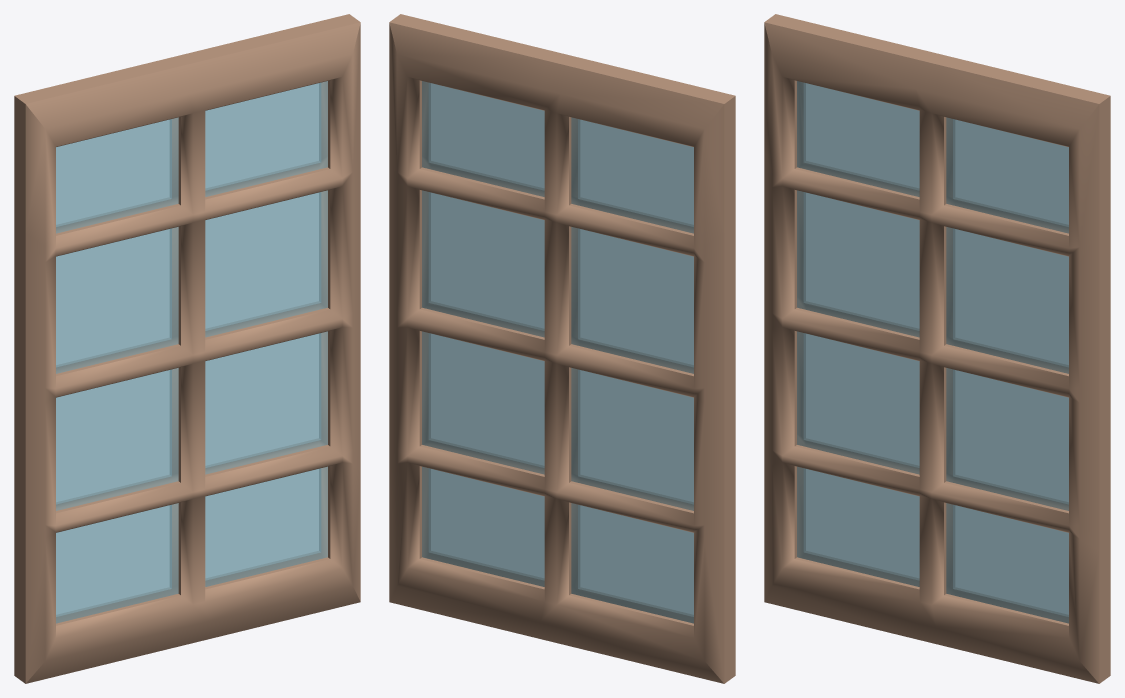
The model's file is WINDOW.fbx.
3 views of the same model, side by side, from view 1: azimuth 30°, elevation 25°; view 2: azimuth 150°, elevation 25°; view 3: azimuth 330°, elevation 25° (orthographic).
Parts seen in each view (by area): view 1: WINDOW; view 2: WINDOW; view 3: WINDOW.
Boxes of the visible parts, box(x1,y1,x2,y2) form: WINDOW: box(14, 14, 360, 683); WINDOW: box(389, 14, 735, 683); WINDOW: box(764, 14, 1110, 683).
Size of the model in its own units: 3.04 by 5.03 by 0.3658.
